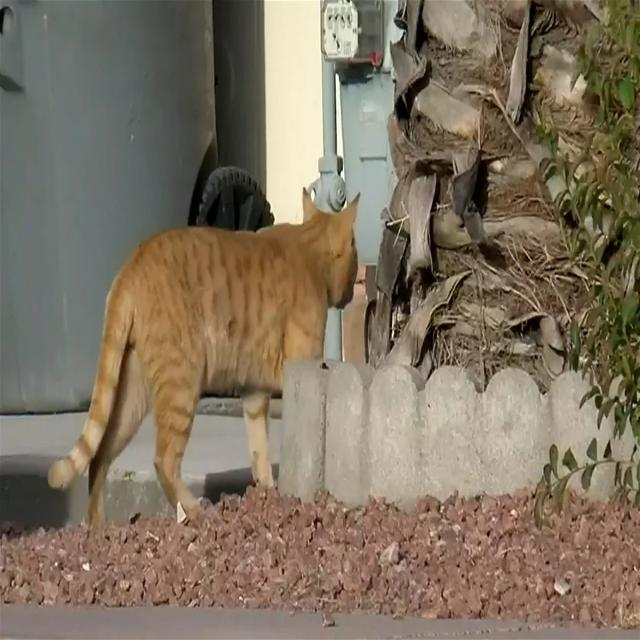cat: (49, 191, 358, 527)
